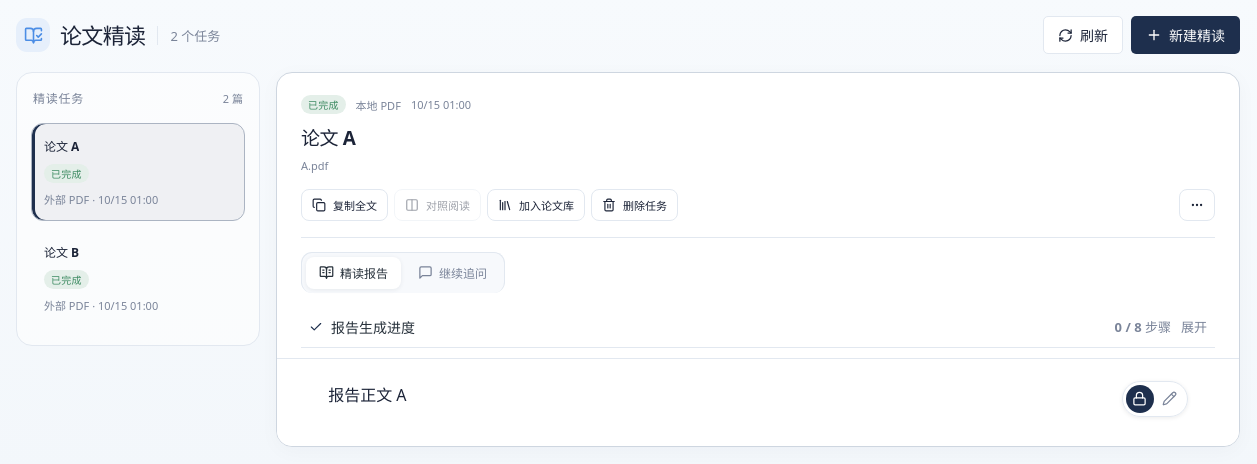
精读任务切换 › 切换已完成任务时复制全文保持显示
Expected: the button "复制全文" is shown, [301,188,388,220]
What coordinates should you click on to do the following:
click the button "论文 B 已完成 外部 PDF · 10/15 01:00"
I would click on:
 (138, 278)
Its box is [31,229,245,327].
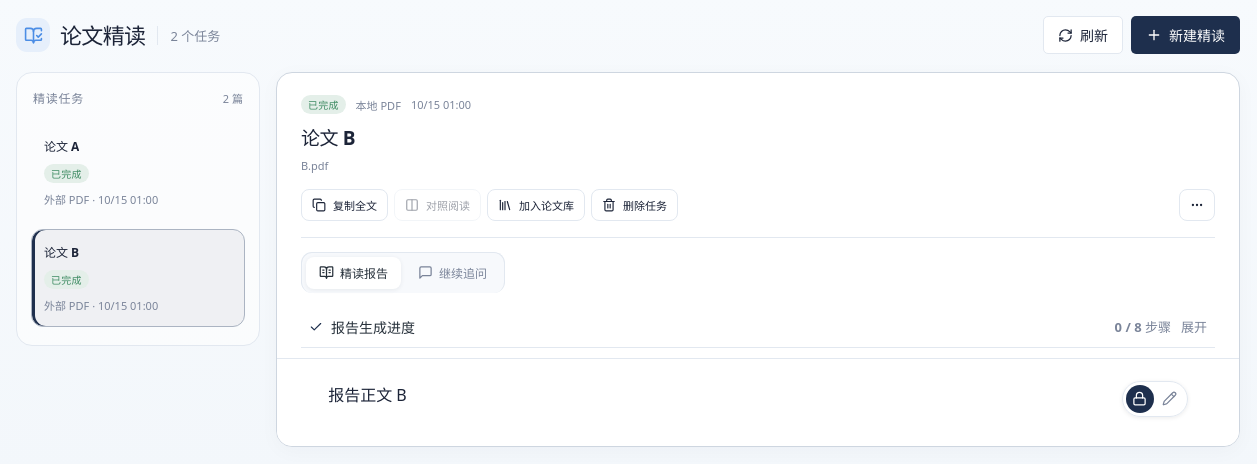
Expected: the button "复制全文" is shown, [301,188,388,220]
Expected: the text "报告正文 B" is shown, [328,384,407,406]
